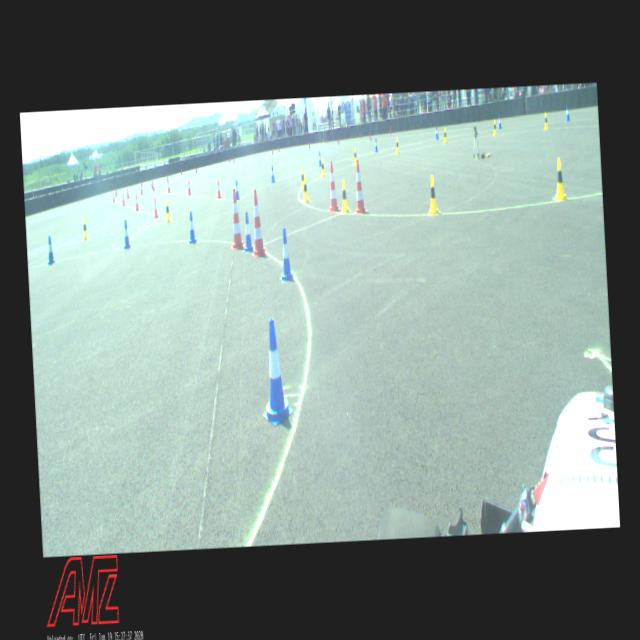blue_cone: (258, 318, 294, 427), (278, 227, 294, 282), (242, 212, 255, 254), (187, 211, 197, 243), (46, 236, 55, 264), (124, 220, 132, 249), (564, 105, 570, 122), (270, 166, 276, 183), (236, 179, 240, 199), (374, 138, 379, 153), (498, 114, 502, 130), (435, 125, 439, 139), (318, 151, 321, 167)
large_orange_cone: (248, 188, 268, 258), (228, 188, 245, 251), (352, 159, 368, 215), (326, 160, 340, 212)
orange_cone: (215, 180, 222, 200), (153, 197, 159, 218), (134, 194, 140, 212), (187, 180, 192, 196), (167, 180, 171, 193), (122, 190, 125, 206), (140, 183, 144, 195), (112, 190, 115, 202), (126, 186, 129, 198), (152, 179, 154, 191)
yellow_cone: (553, 158, 567, 201), (427, 174, 439, 216), (340, 180, 350, 213), (302, 175, 309, 203), (82, 217, 89, 240), (164, 200, 171, 222), (320, 156, 326, 178), (442, 128, 448, 144), (300, 166, 304, 189), (395, 136, 400, 154), (492, 119, 497, 136), (544, 112, 548, 130), (353, 146, 356, 164)
